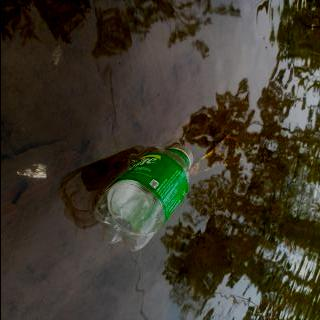bottle: (92, 142, 194, 252)
